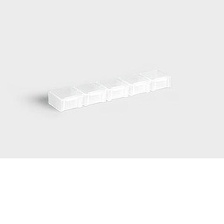plastic_box: (38, 63, 176, 116)
